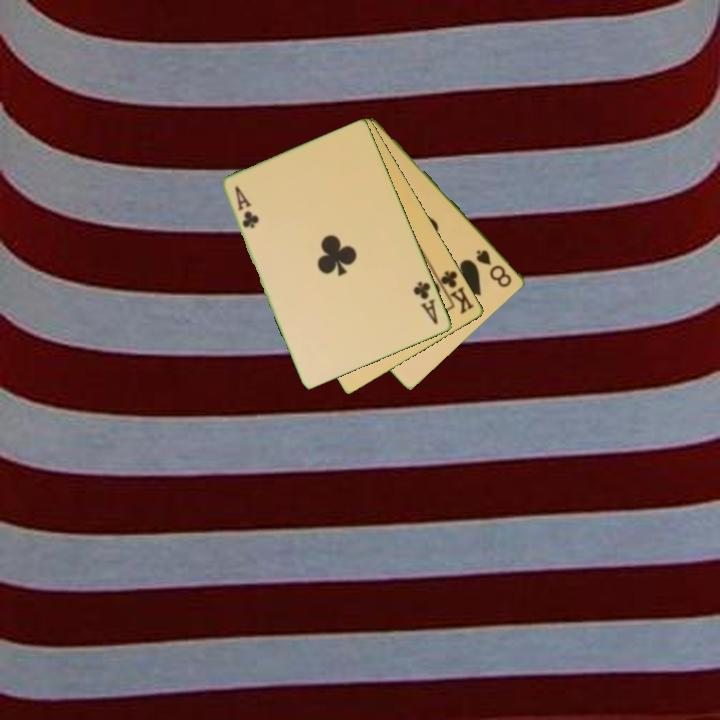8s: (473, 246, 515, 290)
Ac: (410, 278, 441, 327), (232, 182, 262, 232)
Kc: (432, 267, 477, 317)
